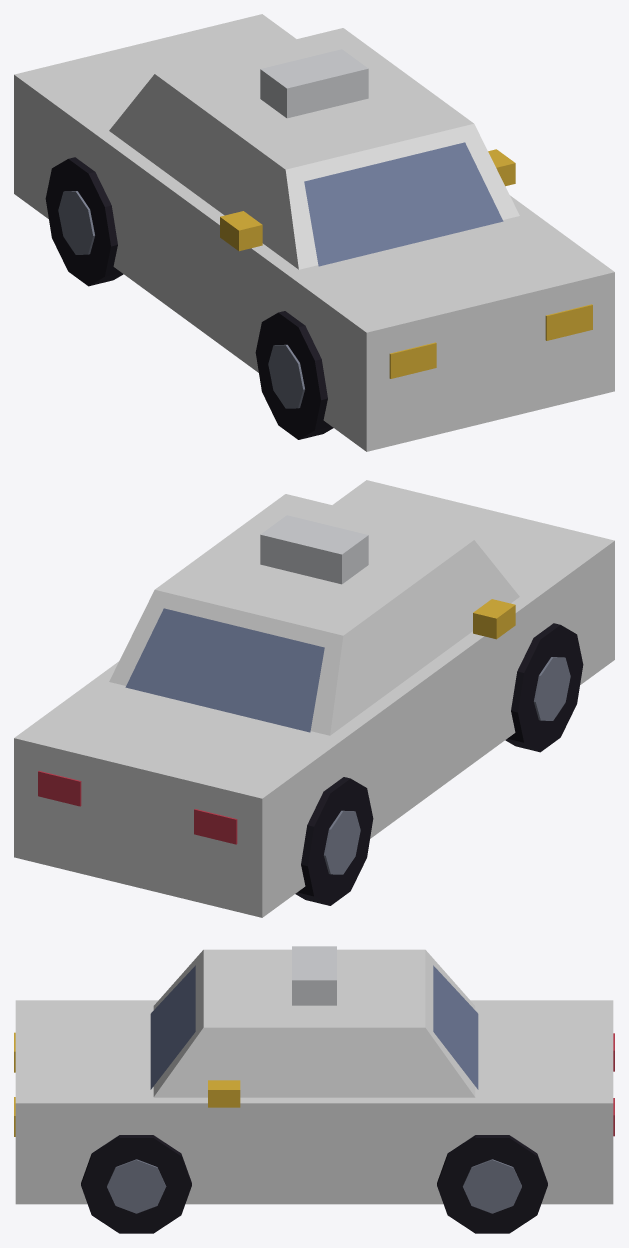
The model's file is SCR_Car_Taxi.fbx.
3 views of the same model, one above another, from view 1: azimuth 30°, elevation 25°; view 2: azimuth 150°, elevation 25°; view 3: azimuth 270°, elevation 25° (orthographic). The views are drawn at different scales.
Visible parts, largest first — view 1: SCR_Car_Taxi_Body_Outline, SCR_Car_Taxi_Details; view 2: SCR_Car_Taxi_Body_Outline, SCR_Car_Taxi_Details; view 3: SCR_Car_Taxi_Body_Outline, SCR_Car_Taxi_Details.
Boxes of the visible parts, bbox=[...] form: SCR_Car_Taxi_Body_Outline: bbox=[14, 14, 614, 451]; SCR_Car_Taxi_Details: bbox=[45, 49, 592, 439]; SCR_Car_Taxi_Body_Outline: bbox=[14, 480, 614, 917]; SCR_Car_Taxi_Details: bbox=[38, 515, 583, 905]; SCR_Car_Taxi_Body_Outline: bbox=[15, 949, 613, 1204]; SCR_Car_Taxi_Details: bbox=[14, 946, 614, 1233].
Bounding box in the file's own units: 210 × 185 × 466.
